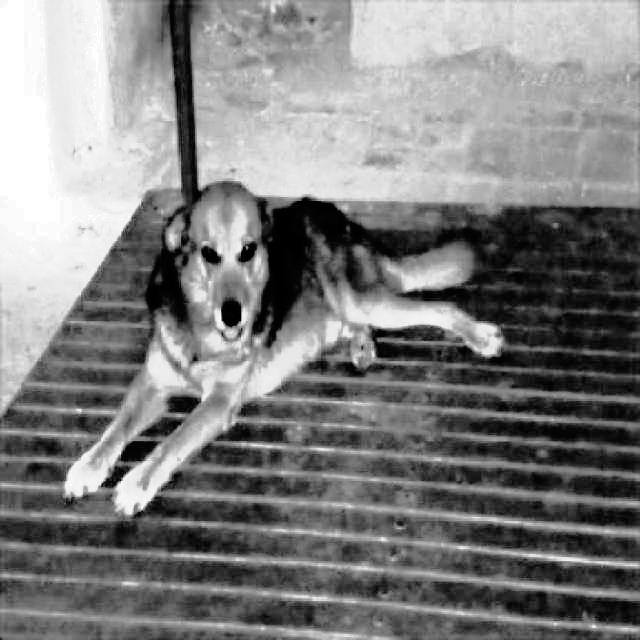Dog: (63, 173, 511, 524)
